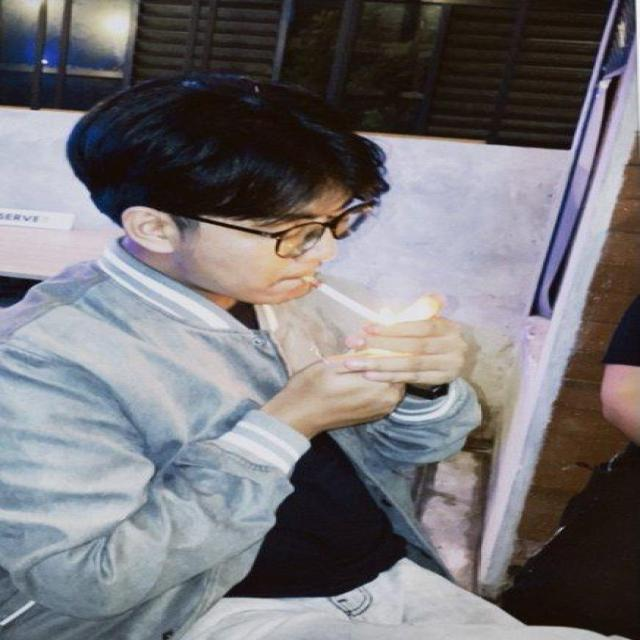rokok: (308, 266, 398, 326)
